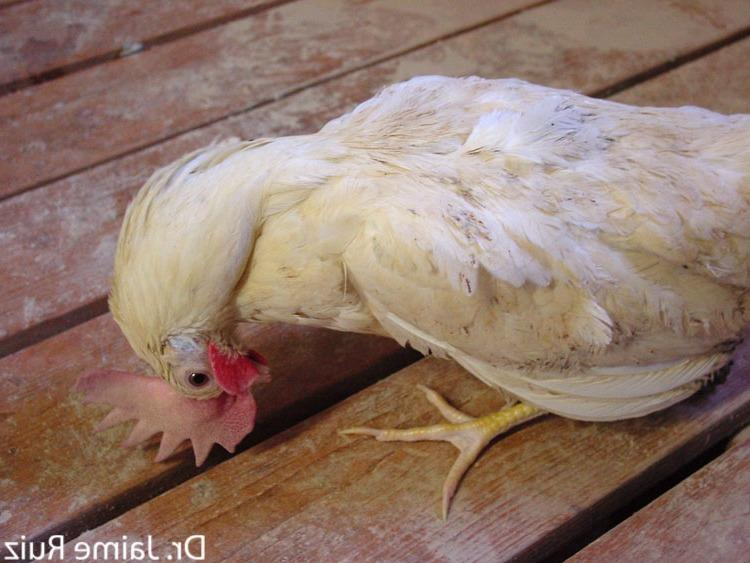AbNormal: (79, 83, 750, 503)
